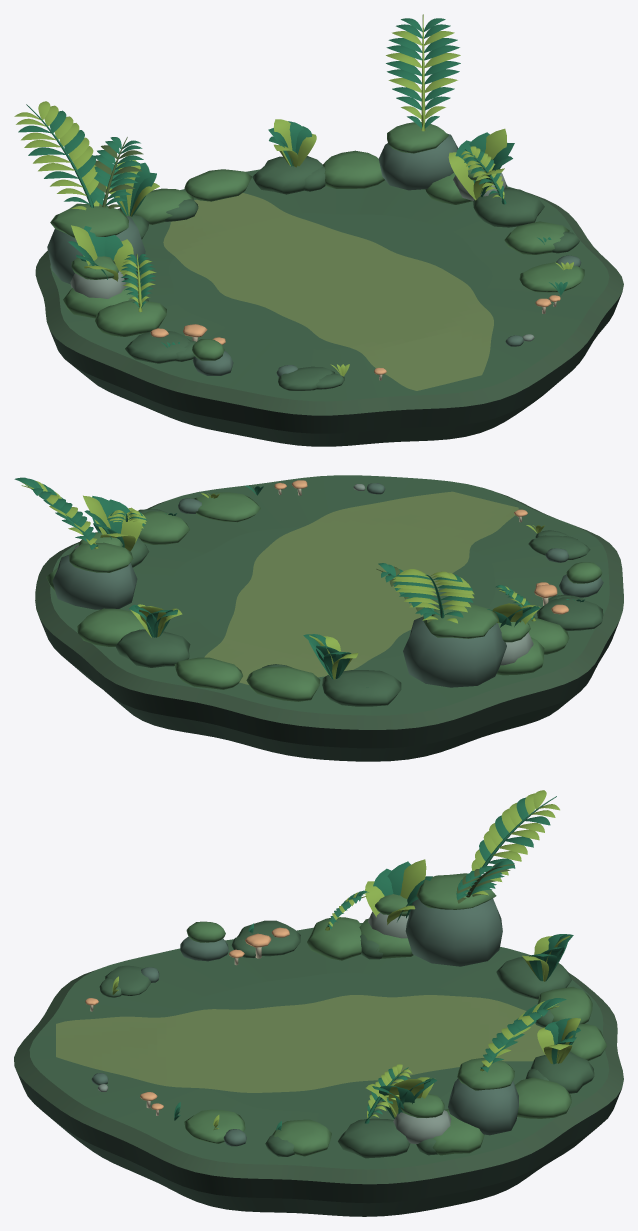
The model's file is grove.glb.
3 renders of one model, top to bottom at view 1: azimuth 30°, elevation 25°; view 2: azimuth 150°, elevation 25°; view 3: azimuth 270°, elevation 25°, orthographic. The views are drawn at different scales.
Visible parts, largest first — view 1: Habitat_grove_grove_moss.004, Habitat_grove_grove_clearing.002, Habitat_grove_grove_moss_cushions.002, Habitat_grove_grove_earth.004, Habitat_grove_grove_edge.004, Habitat_grove_grove_jade_leaf.004, Habitat_grove_grove_young_leaf.004, Habitat_grove_grove_stone_shadow.004, Habitat_grove_grove_riverstone.004, Habitat_grove_grove_leaf_stem.004, Habitat_grove_grove_mushroom_cap.004; view 2: Habitat_grove_grove_moss.004, Habitat_grove_grove_clearing.002, Habitat_grove_grove_earth.004, Habitat_grove_grove_moss_cushions.002, Habitat_grove_grove_edge.004, Habitat_grove_grove_stone_shadow.004, Habitat_grove_grove_jade_leaf.004, Habitat_grove_grove_young_leaf.004, Habitat_grove_grove_mushroom_cap.004, Habitat_grove_grove_riverstone.004; view 3: Habitat_grove_grove_moss.004, Habitat_grove_grove_clearing.002, Habitat_grove_grove_earth.004, Habitat_grove_grove_moss_cushions.002, Habitat_grove_grove_edge.004, Habitat_grove_grove_stone_shadow.004, Habitat_grove_grove_jade_leaf.004, Habitat_grove_grove_young_leaf.004, Habitat_grove_grove_riverstone.004, Habitat_grove_grove_mushroom_cap.004.
Part boxes in pixels (bbox=[...]): Habitat_grove_grove_moss.004: bbox=[50, 156, 609, 401]; Habitat_grove_grove_clearing.002: bbox=[163, 193, 493, 390]; Habitat_grove_grove_moss_cushions.002: bbox=[50, 122, 584, 360]; Habitat_grove_grove_earth.004: bbox=[50, 293, 621, 446]; Habitat_grove_grove_edge.004: bbox=[35, 192, 623, 415]; Habitat_grove_grove_jade_leaf.004: bbox=[18, 18, 567, 347]; Habitat_grove_grove_young_leaf.004: bbox=[14, 14, 573, 376]; Habitat_grove_grove_stone_shadow.004: bbox=[47, 133, 581, 376]; Habitat_grove_grove_riverstone.004: bbox=[70, 173, 534, 341]; Habitat_grove_grove_leaf_stem.004: bbox=[94, 137, 143, 208]; Habitat_grove_grove_mushroom_cap.004: bbox=[150, 295, 560, 374]; Habitat_grove_grove_moss.004: bbox=[50, 475, 609, 715]; Habitat_grove_grove_clearing.002: bbox=[204, 491, 518, 684]; Habitat_grove_grove_earth.004: bbox=[40, 619, 619, 761]; Habitat_grove_grove_moss_cushions.002: bbox=[46, 492, 602, 701]; Habitat_grove_grove_edge.004: bbox=[35, 490, 623, 729]; Habitat_grove_grove_stone_shadow.004: bbox=[52, 483, 603, 687]; Habitat_grove_grove_jade_leaf.004: bbox=[14, 477, 584, 679]; Habitat_grove_grove_young_leaf.004: bbox=[21, 480, 544, 679]; Habitat_grove_grove_mushroom_cap.004: bbox=[274, 480, 568, 614]; Habitat_grove_grove_riverstone.004: bbox=[74, 484, 533, 665]; Habitat_grove_grove_moss.004: bbox=[29, 920, 609, 1169]; Habitat_grove_grove_clearing.002: bbox=[56, 995, 544, 1092]; Habitat_grove_grove_earth.004: bbox=[15, 1069, 621, 1216]; Habitat_grove_grove_moss_cushions.002: bbox=[184, 873, 606, 1156]; Habitat_grove_grove_edge.004: bbox=[14, 954, 623, 1184]; Habitat_grove_grove_stone_shadow.004: bbox=[91, 898, 518, 1146]; Habitat_grove_grove_jade_leaf.004: bbox=[174, 796, 580, 1130]; Habitat_grove_grove_young_leaf.004: bbox=[112, 790, 580, 1129]; Habitat_grove_grove_riverstone.004: bbox=[97, 911, 451, 1143]; Habitat_grove_grove_mushroom_cap.004: bbox=[85, 927, 289, 1110].
Size of the model in its own units: 6.37 by 2.4 by 6.32.
